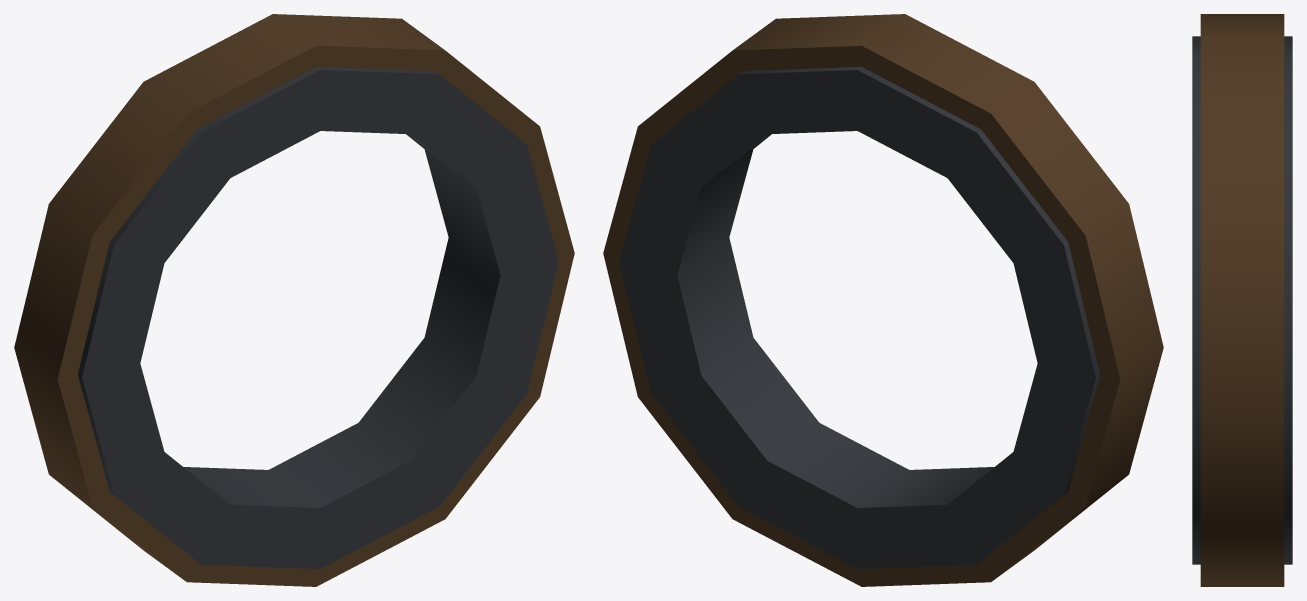
File: cr1_coil_ring.obj
The picture shows the model from 3 angles, left to right: view 1: azimuth 30°, elevation 25°; view 2: azimuth 150°, elevation 25°; view 3: azimuth 270°, elevation 25°; orthographic projection. The views are drawn at different scales.
Parts seen in each view (by area): view 1: cr1_coil_ring; view 2: cr1_coil_ring; view 3: cr1_coil_ring.
Boxes of the visible parts, bbox=[...] form: cr1_coil_ring: bbox=[14, 14, 574, 586]; cr1_coil_ring: bbox=[603, 14, 1163, 586]; cr1_coil_ring: bbox=[1192, 14, 1292, 586].
Bounding box in the file's own units: 3.42 × 3.42 × 0.595.
